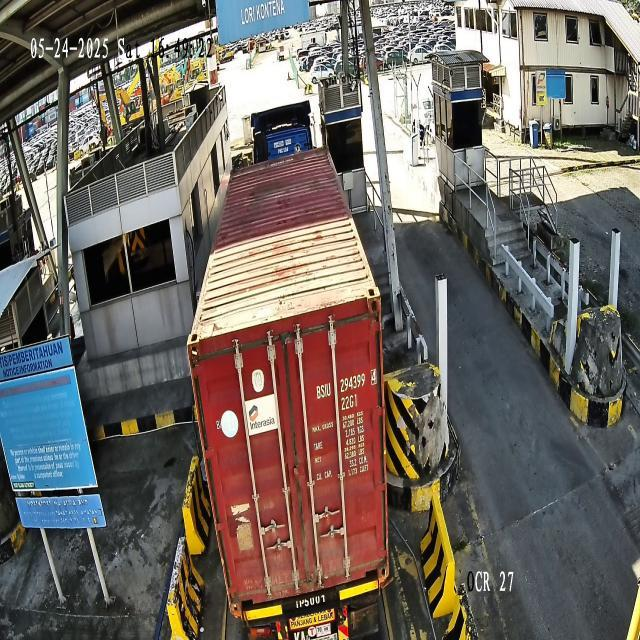ISO: (341, 392, 358, 410)
container_number: (314, 368, 377, 400)
